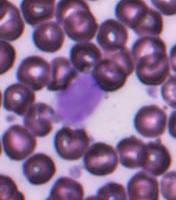L: (54, 70, 108, 127)
